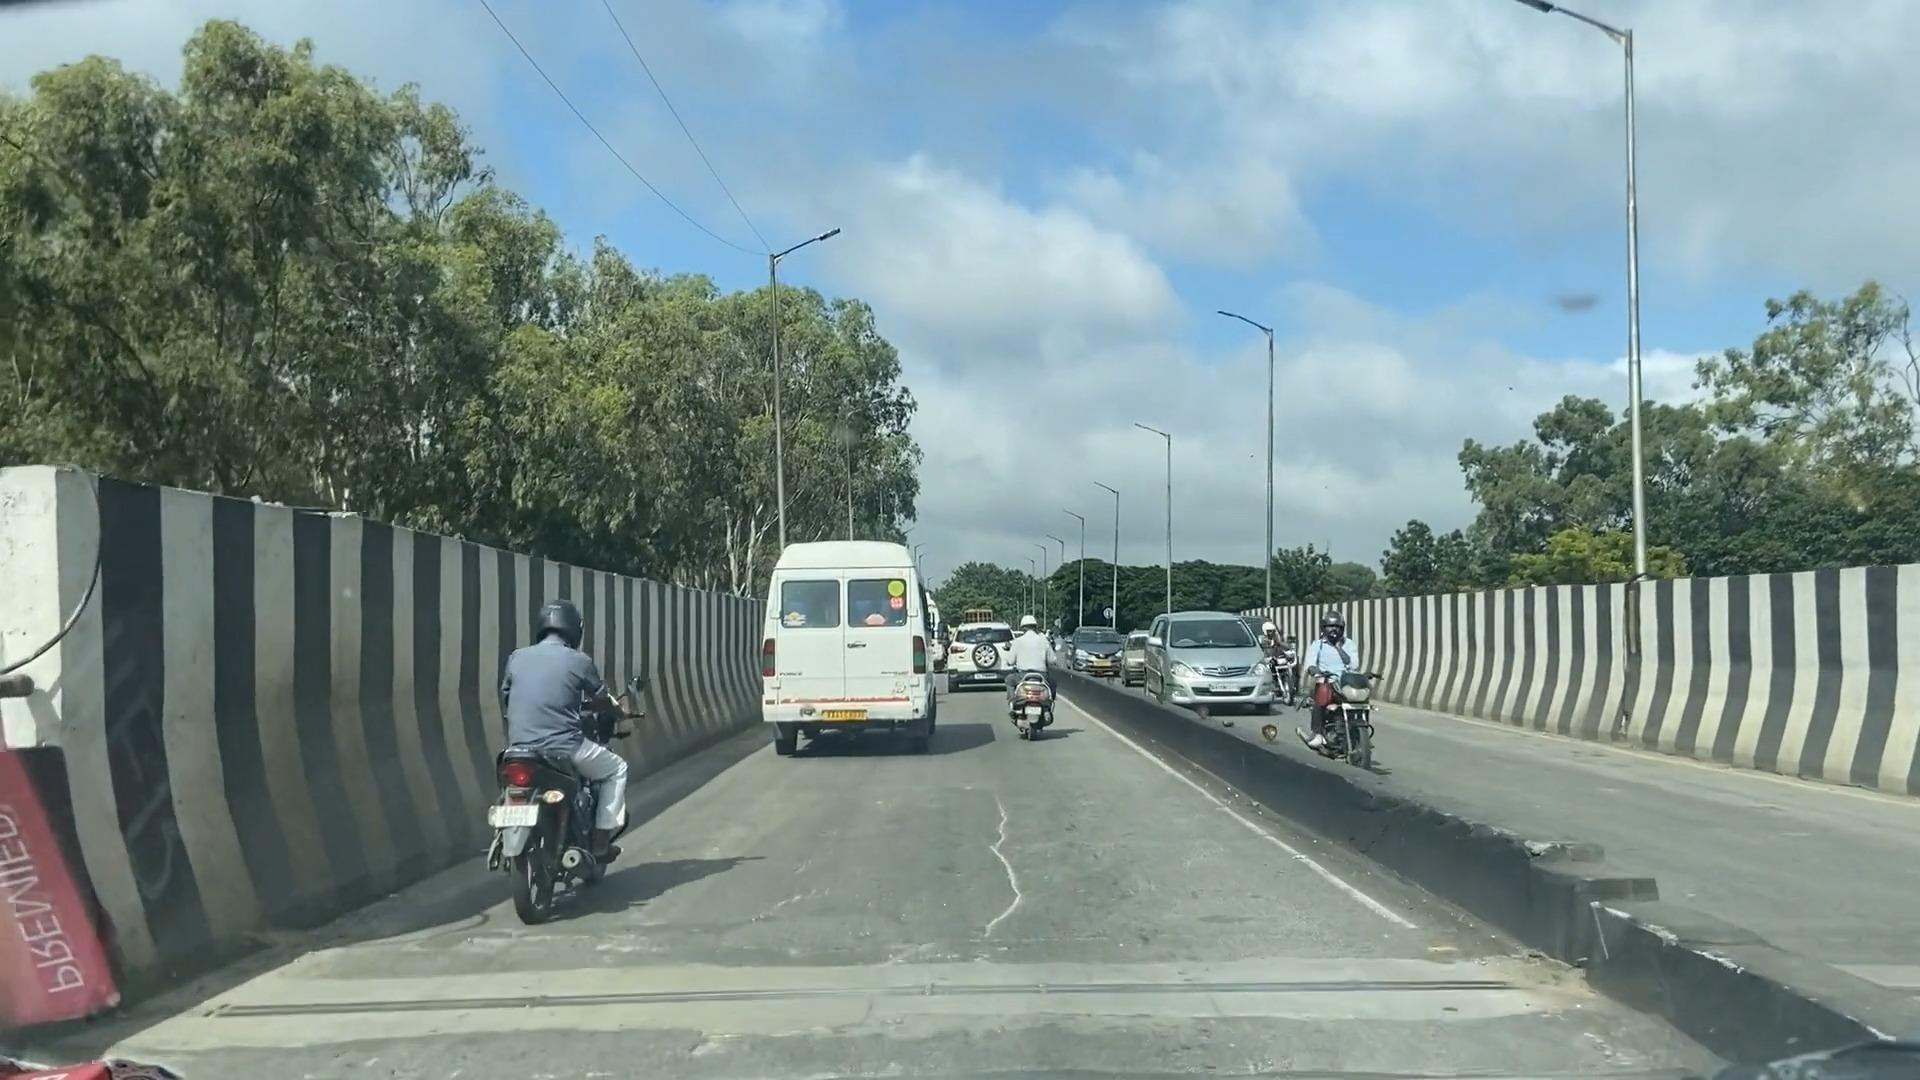HMV: (742, 547, 931, 766)
LMV: (502, 597, 629, 903), (1007, 621, 1054, 749)
RoadDamages: (975, 775, 1022, 945)
SpeedBump: (198, 964, 1528, 1029)
UnsurfacedRoad: (447, 919, 723, 959)
